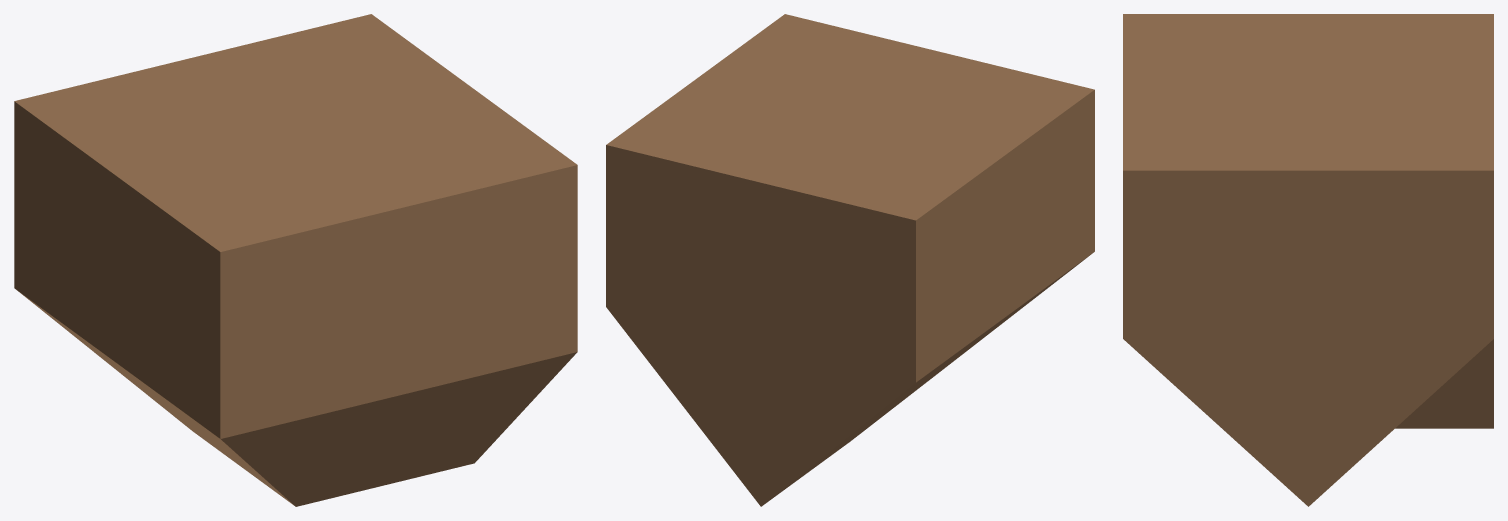
File: Stairs_Indoor_Balcony_Handrail_Inner_Joint.obj
3 views of the same model, side by side, from view 1: azimuth 30°, elevation 25°; view 2: azimuth 150°, elevation 25°; view 3: azimuth 270°, elevation 25° (orthographic). The views are drawn at different scales.
Parts seen in each view (by area): view 1: object1; view 2: object1; view 3: object1.
Part boxes in pixels (left/top/right/bottom): object1: left=14, top=14, right=577, bottom=506; object1: left=606, top=14, right=1094, bottom=506; object1: left=1123, top=14, right=1493, bottom=506.
Size of the model in its own units: 0.1 by 0.1 by 0.1.
